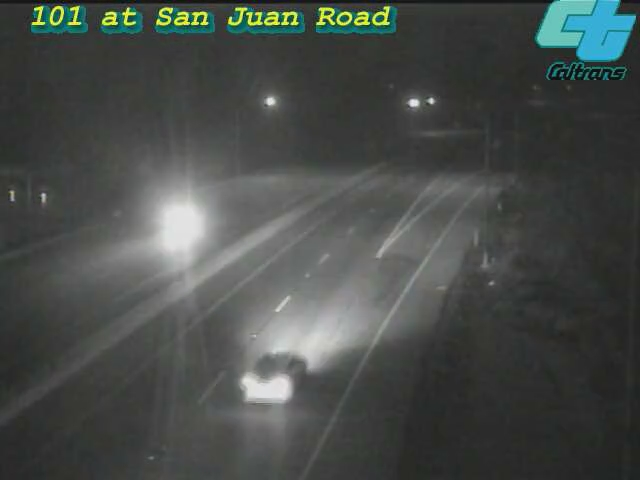vehicle: (218, 319, 328, 429), (141, 186, 221, 266)
